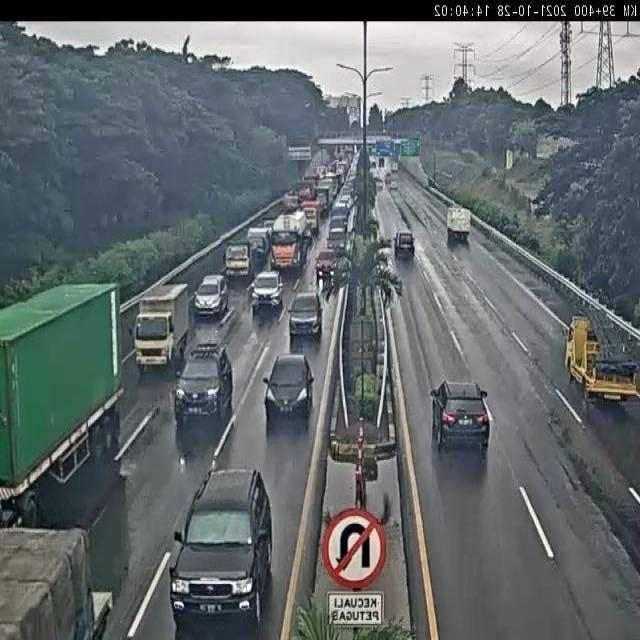Car: (165, 468, 276, 640), (174, 348, 232, 428), (262, 351, 316, 436), (427, 379, 492, 448), (224, 226, 268, 277), (286, 292, 324, 345), (192, 273, 230, 323), (248, 270, 284, 322), (314, 249, 342, 285), (392, 225, 414, 267), (392, 232, 416, 261), (325, 227, 347, 256)
Truck: (0, 275, 125, 528), (565, 309, 640, 409), (130, 282, 192, 368), (269, 208, 313, 272), (444, 207, 473, 245), (302, 201, 321, 234)
